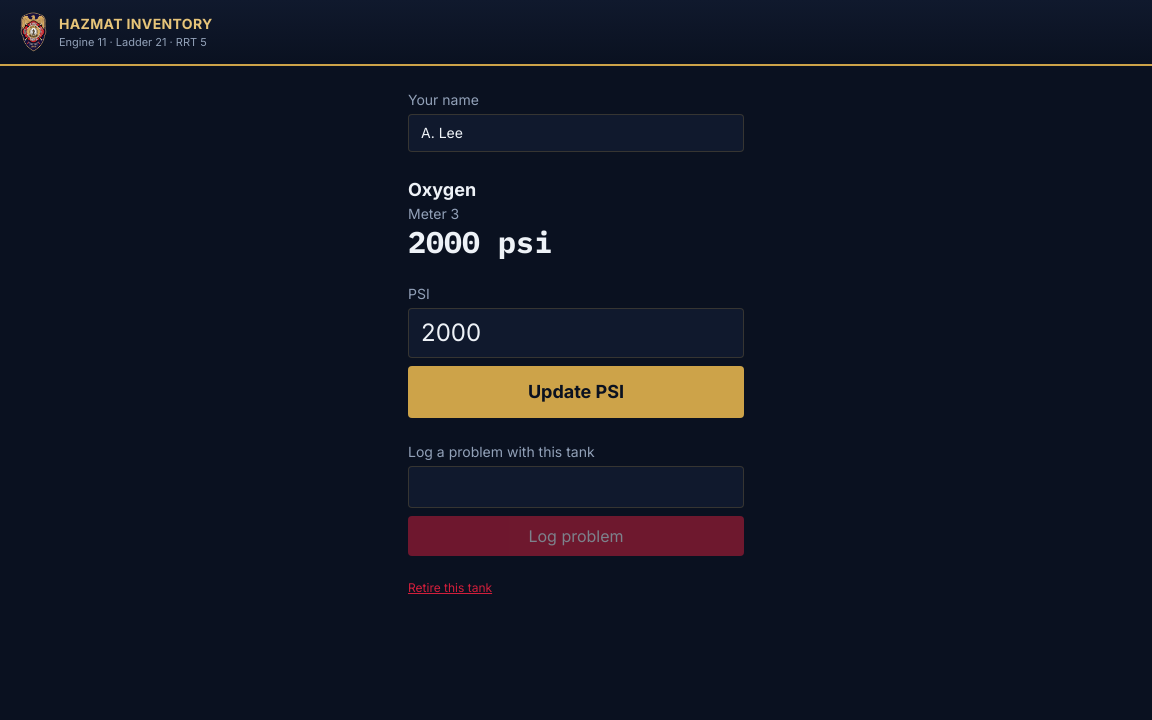
Scenario: ScanTankPage › shows the "no longer active" state after a successful retire
The width and height of the screenshot is (1152, 720).
Expected: the heading "Oxygen" is shown, [408,179,476,200]
Click the button "Retire this tank": [450, 588] box [408,580,492,596]
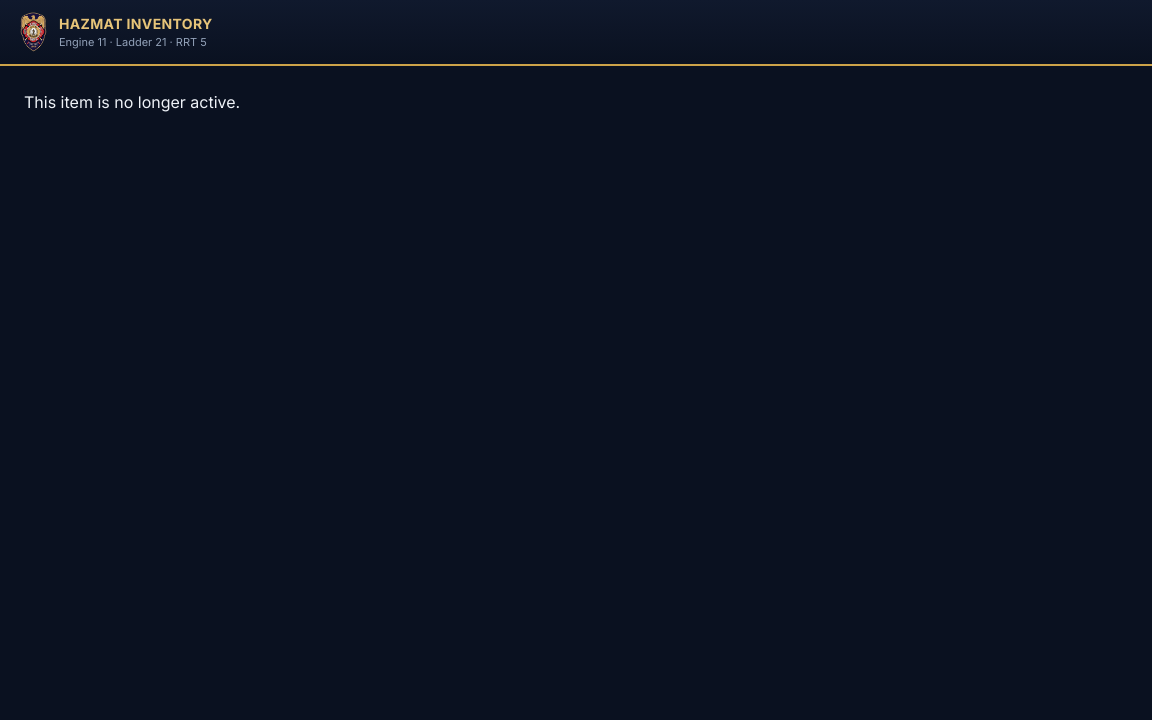
Now the text "This item is no longer active." is shown, box [24,92,240,112]
